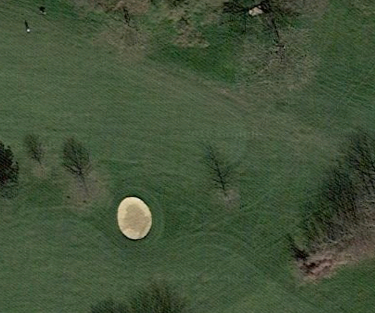tree: (200, 176, 263, 222), (61, 167, 111, 214)
